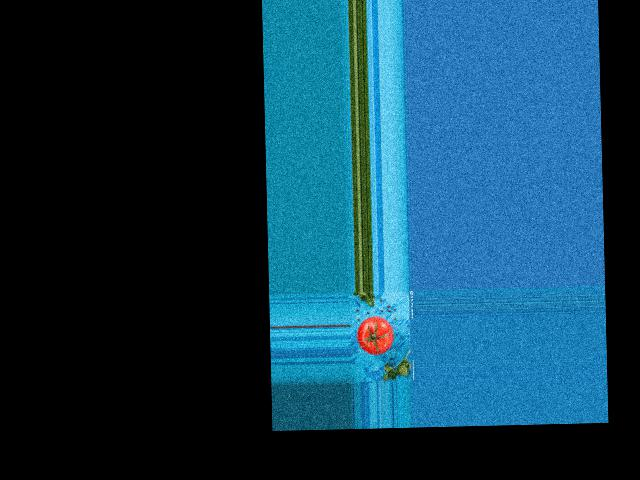tomato: (356, 316, 394, 355)
